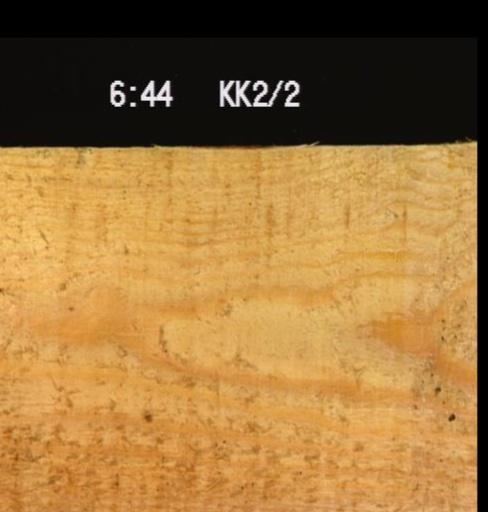small_knot: (140, 408, 152, 422)
